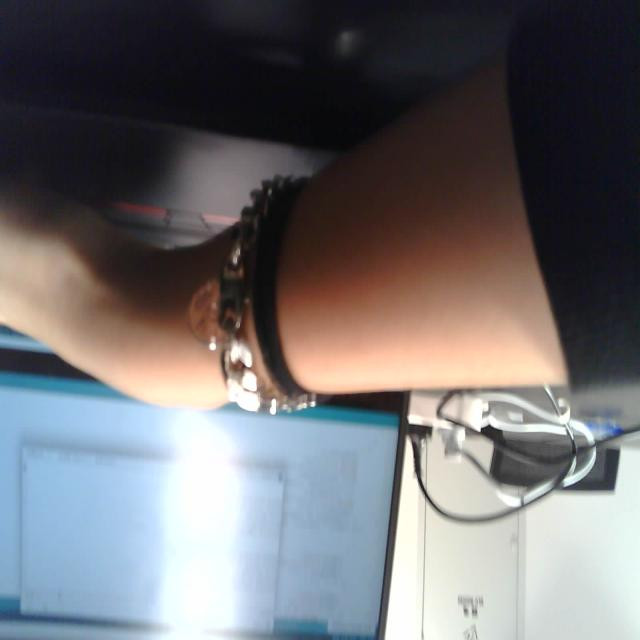keyboard-with-hands: (0, 98, 437, 354)
